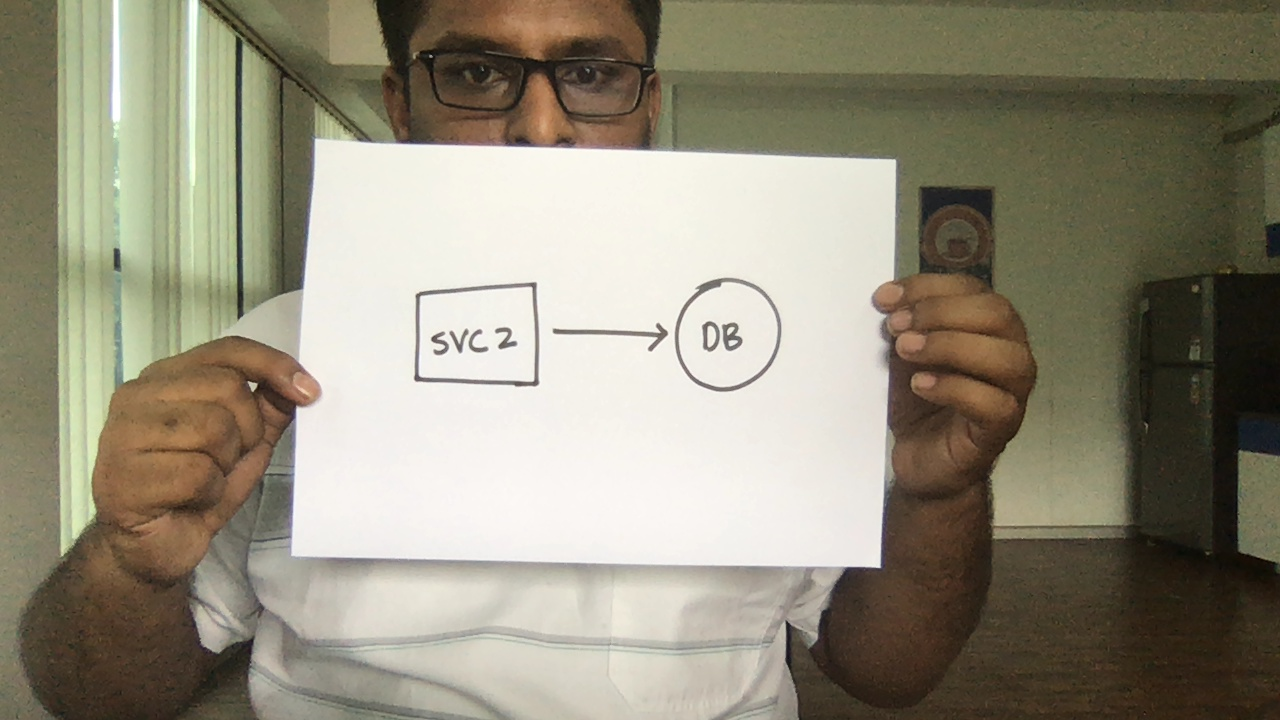arrow: (553, 302, 673, 367)
db: (669, 273, 785, 395)
ec2: (409, 277, 550, 394)
